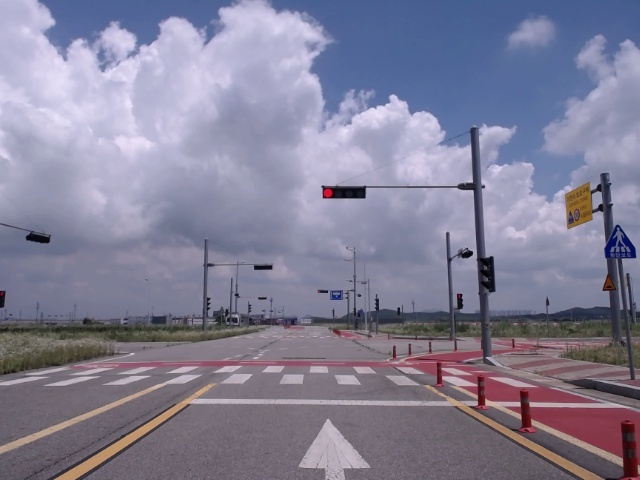red_4: (323, 187, 366, 199)
